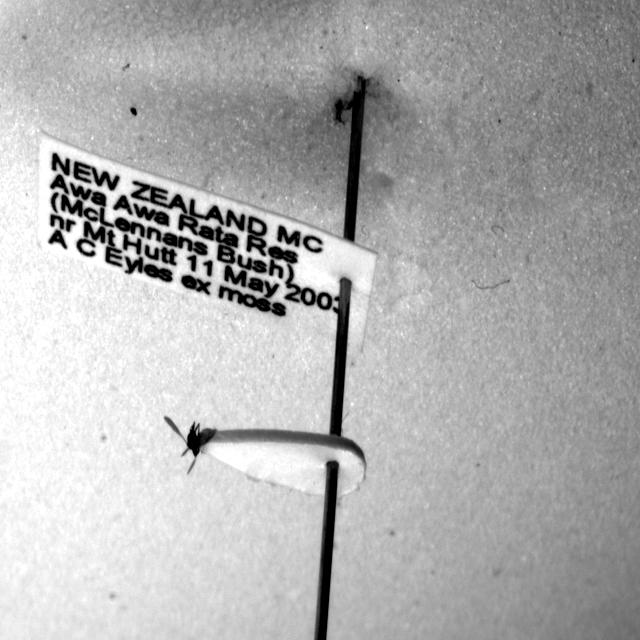typed_label: (38, 133, 376, 349)
